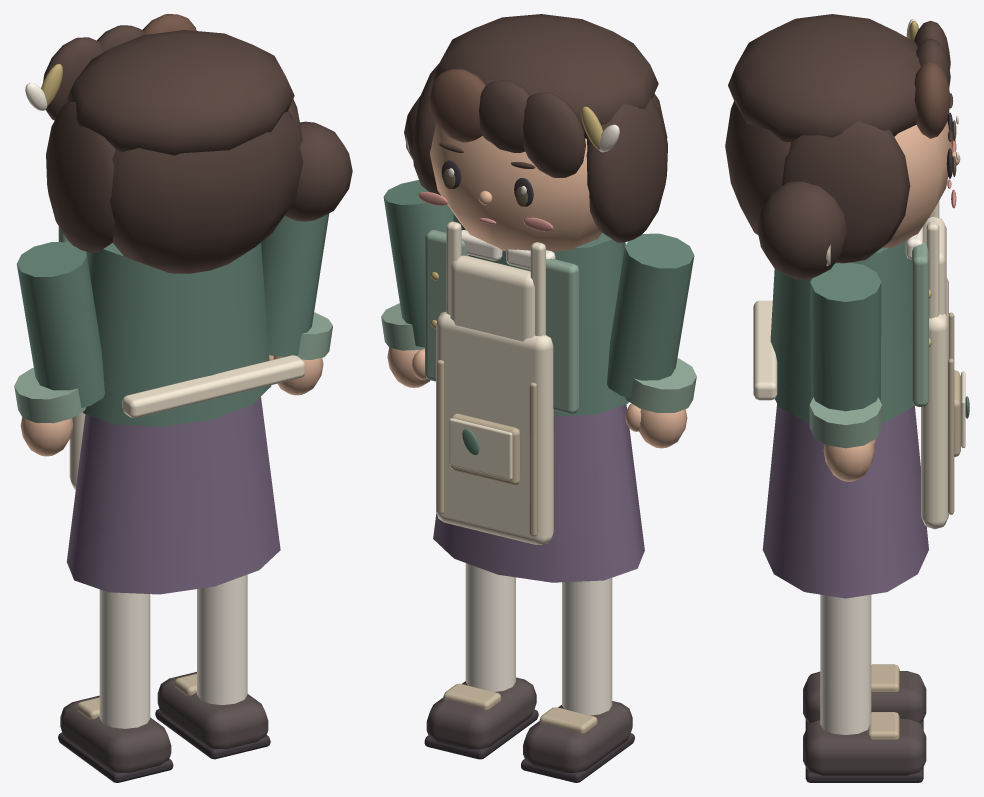
The model's file is misaki-calm-v1.glb.
3 views of the same model, side by side, from view 1: azimuth 30°, elevation 25°; view 2: azimuth 150°, elevation 25°; view 3: azimuth 270°, elevation 25° (orthographic).
Parts seen in each view (by area): view 1: head.hair.11, body.fabric.0, body.fabric.1, body.fabric.5, arm-left.fabric.21, body.fabric.6, arm-right.fabric.24, body.fabric.3, arm-left.fabric.22, body.fabric.7, arm-left.skin.23, arm-right.fabric.25 (+3 smaller); view 2: head.hair.11, body.fabric.3, body.fabric.0, body.fabric.5, head.skin.10, arm-left.fabric.21, body.fabric.6, body.fabric.1, body.fabric.2, body.fabric.4, arm-right.fabric.24, head.hair.13 (+8 smaller); view 3: head.hair.11, body.fabric.0, body.fabric.1, arm-right.fabric.24, body.fabric.3, body.fabric.6, body.fabric.5, head.skin.10, body.fabric.4, body.fabric.2, arm-right.fabric.25, head.hair.13 (+2 smaller).
Boxes of the visible parts, box(x1,y1,x2,y2) form: head.hair.11: box(43, 25, 352, 273); body.fabric.0: box(66, 397, 280, 594); body.fabric.1: box(83, 242, 271, 426); body.fabric.5: box(99, 574, 247, 728); arm-left.fabric.21: box(16, 242, 104, 407); body.fabric.6: box(60, 672, 268, 772); arm-right.fabric.24: box(261, 213, 329, 356); body.fabric.3: box(69, 355, 305, 489); arm-left.fabric.22: box(14, 367, 86, 423); body.fabric.7: box(58, 709, 270, 782); arm-left.skin.23: box(20, 417, 73, 456); arm-right.fabric.25: box(280, 312, 332, 359); head.hair.11: box(404, 14, 667, 242); body.fabric.3: box(436, 221, 553, 544); body.fabric.0: box(433, 404, 644, 582); body.fabric.5: box(461, 230, 612, 715); head.skin.10: box(429, 123, 601, 251); arm-left.fabric.21: box(607, 233, 694, 397); body.fabric.6: box(426, 677, 632, 772); body.fabric.1: box(453, 214, 628, 455); body.fabric.2: box(425, 230, 579, 413); body.fabric.4: box(437, 360, 597, 733); arm-right.fabric.24: box(383, 180, 453, 347); head.hair.13: box(429, 69, 485, 142); head.hair.11: box(725, 14, 953, 279); body.fabric.0: box(762, 404, 928, 598); body.fabric.1: box(770, 241, 969, 422); arm-right.fabric.24: box(810, 262, 881, 411); body.fabric.3: box(753, 201, 965, 529); body.fabric.6: box(803, 671, 926, 775); body.fabric.5: box(820, 226, 923, 734); head.skin.10: box(881, 121, 960, 248); body.fabric.4: box(867, 312, 960, 740); body.fabric.2: box(912, 241, 928, 406); arm-right.fabric.25: box(809, 397, 881, 448); head.hair.13: box(914, 61, 950, 138).
Size of the model in its own units: 0.6676 by 1.47 by 0.456.
